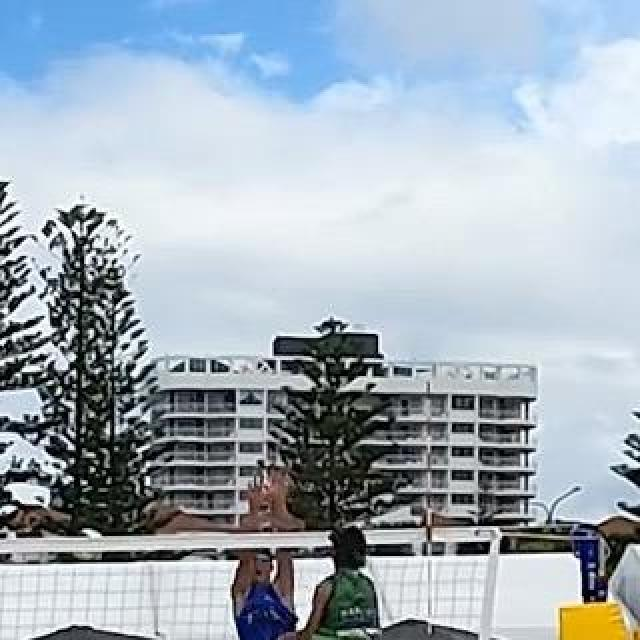volleyball: (70, 528, 104, 562)
